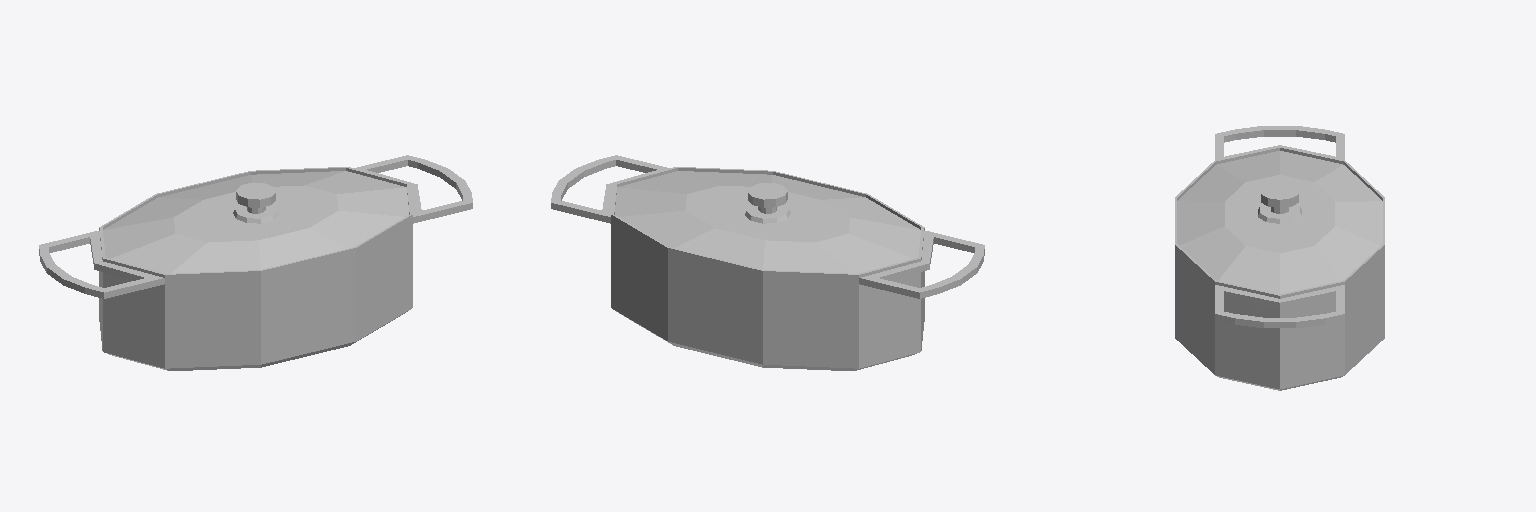
Rendered from pan_dutch_oven.obj.
3 renders of one model, left to right at view 1: azimuth 30°, elevation 25°; view 2: azimuth 150°, elevation 25°; view 3: azimuth 270°, elevation 25°, orthographic.
Visible parts, largest first — view 1: pan_dutch_oven_Cylinder.055, pan_dutch_oven_lid_Cylinder.068; view 2: pan_dutch_oven_Cylinder.055, pan_dutch_oven_lid_Cylinder.068; view 3: pan_dutch_oven_Cylinder.055, pan_dutch_oven_lid_Cylinder.068.
Part boxes in pixels (left/top/right/bottom): pan_dutch_oven_Cylinder.055: left=39, top=155, right=472, bottom=370; pan_dutch_oven_lid_Cylinder.068: left=103, top=171, right=408, bottom=273; pan_dutch_oven_Cylinder.055: left=551, top=155, right=984, bottom=370; pan_dutch_oven_lid_Cylinder.068: left=615, top=171, right=920, bottom=273; pan_dutch_oven_Cylinder.055: left=1175, top=126, right=1384, bottom=390; pan_dutch_oven_lid_Cylinder.068: left=1177, top=151, right=1382, bottom=293.
Bounding box in the file's own units: 9.44 × 2.91 × 4.28.